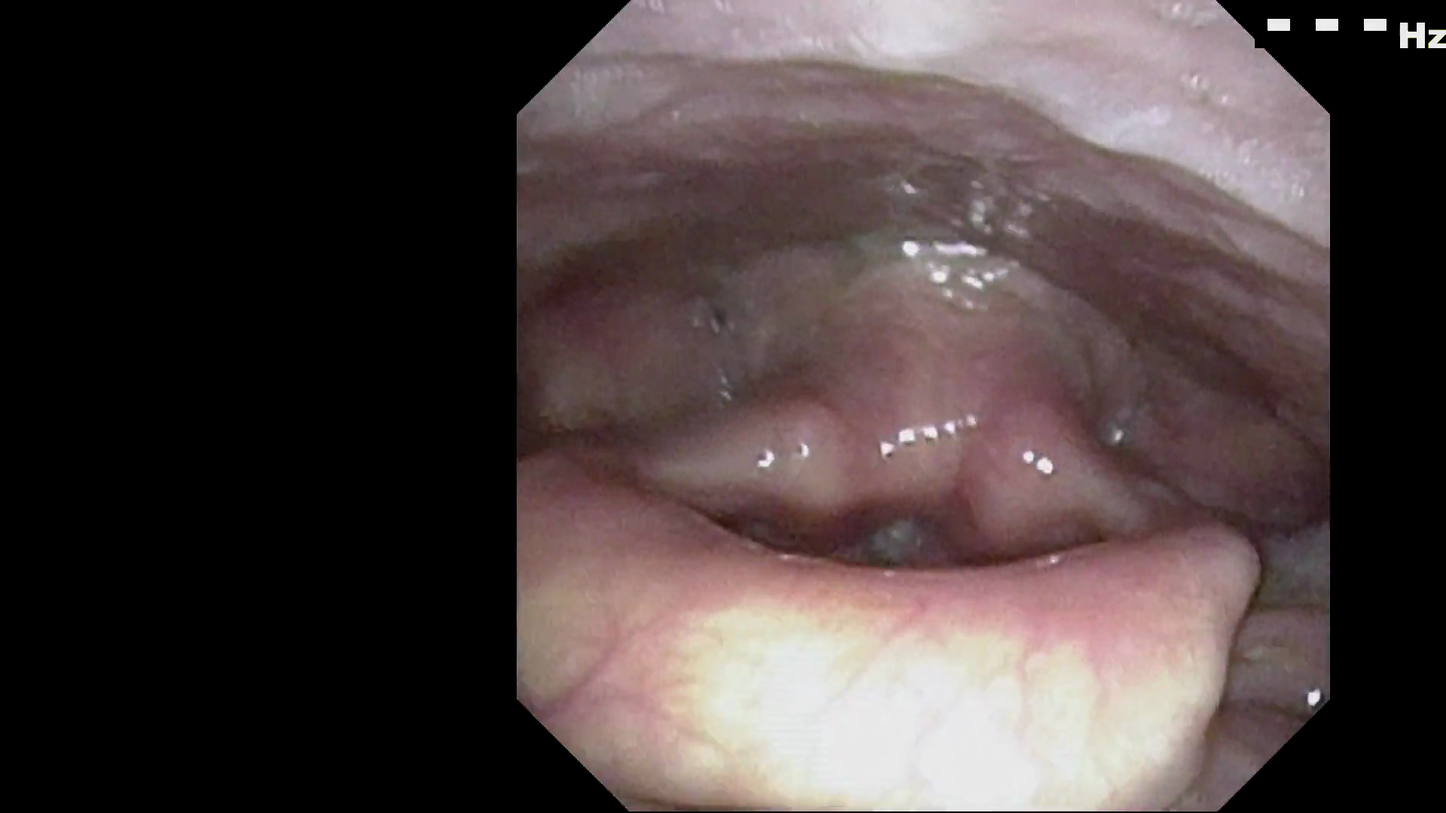epiglottis: (556, 515, 1215, 737)
trachea: (867, 507, 955, 599)
